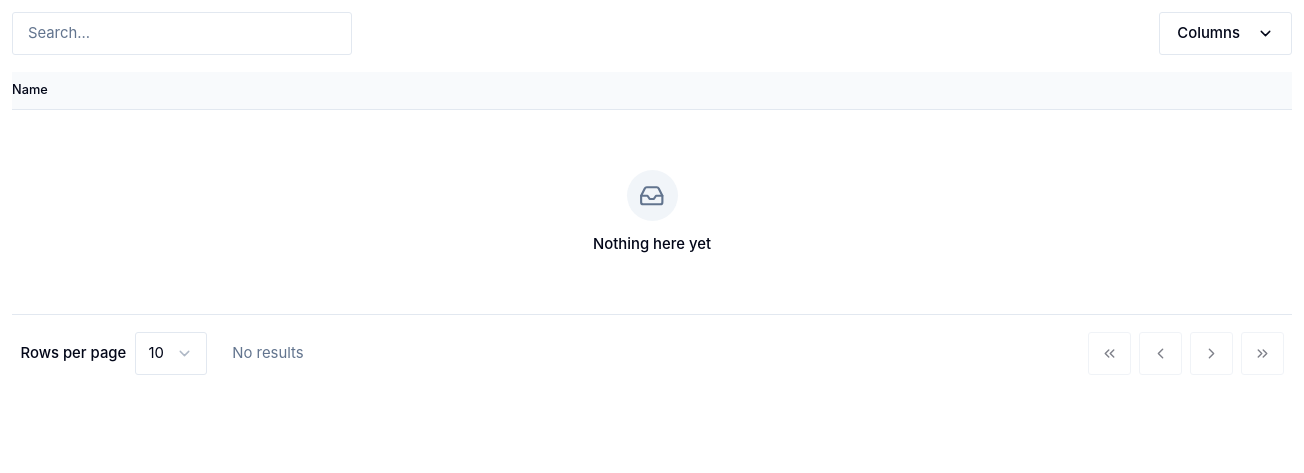
ResourceListing › shows 'Clear search & filters' when filtered with no results and clears on click
Type "xyz" into the field with placeholder "Search...".
click(182, 33); type("xyz")  # box [12,12,352,54]
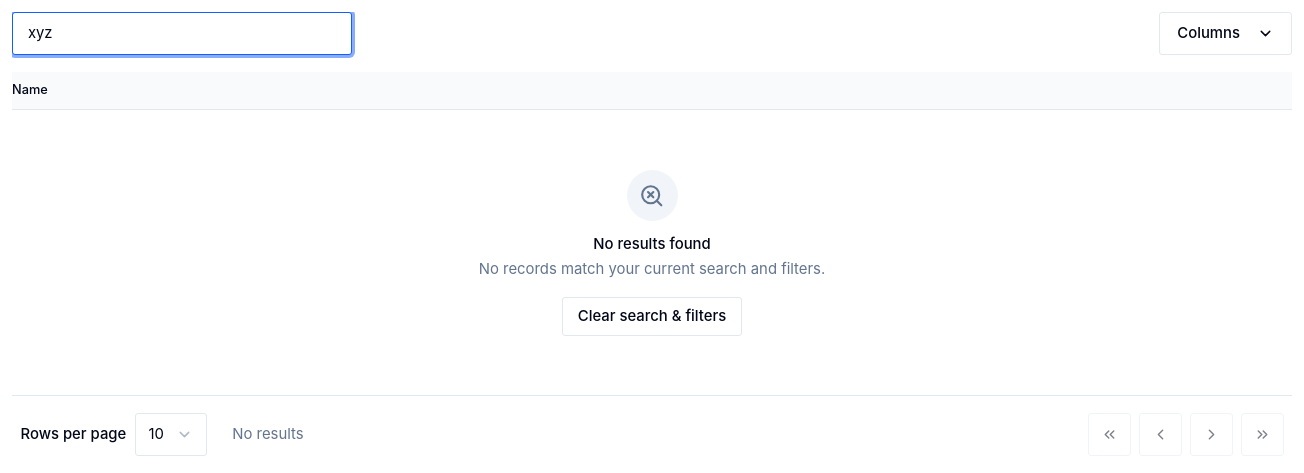
Now the text "No results found" is shown, box [593,234,711,252]
Click the button "Clear search & filters".
click(652, 316)  # box [562,297,742,336]
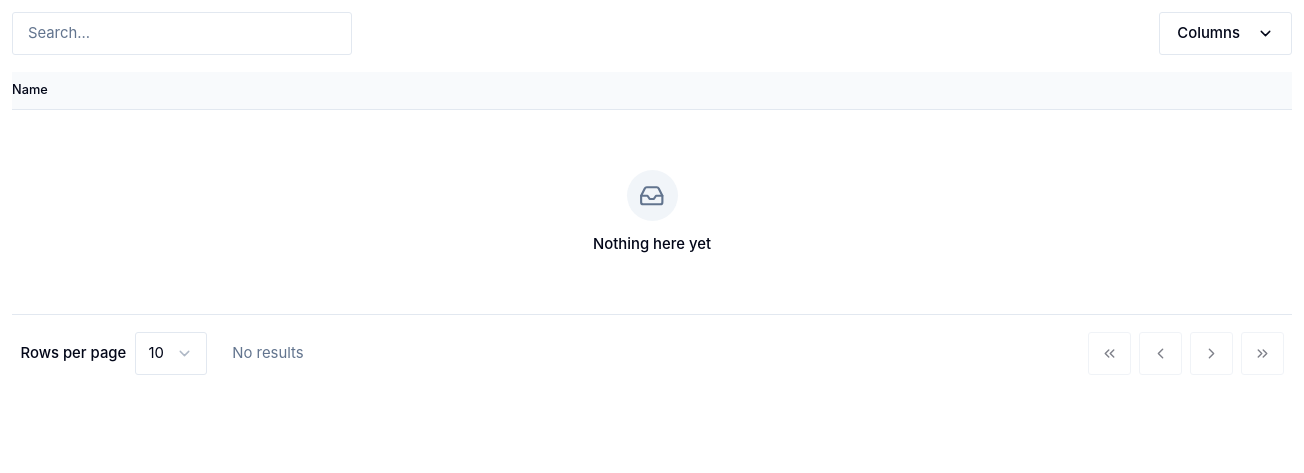
Now the field with placeholder "Search..." is empty, box [12,12,352,54]
